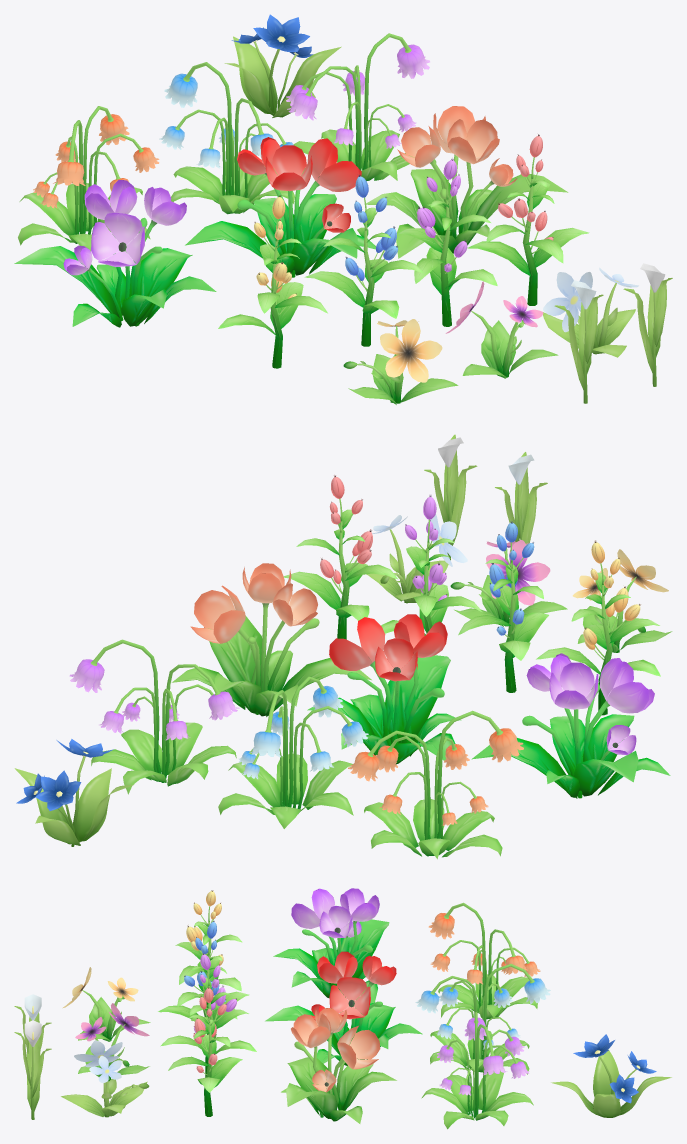
The model's file is flowers_pack_4.glb.
The picture shows the model from 3 angles, top to bottom: view 1: azimuth 30°, elevation 25°; view 2: azimuth 150°, elevation 25°; view 3: azimuth 270°, elevation 25°; orthographic projection. The views are drawn at different scales.
Parts seen in each view (by area): view 1: Cylinder.012, Cylinder.011, Cylinder.010, Cylinder.013, Cylinder.015, Cylinder.014, Cylinder.009, Circle.009, Circle.002, Circle.001, Cylinder.008, Circle.003 (+4 smaller); view 2: Cylinder.012, Cylinder.010, Cylinder.011, Cylinder.014, Cylinder.015, Cylinder.013, Cylinder.009, Circle.009, Circle.002, Circle.003, Circle.001, Cylinder.007 (+4 smaller); view 3: Cylinder.010, Cylinder.012, Cylinder.011, Cylinder.015, Cylinder.014, Cylinder.013, Cylinder.009, Cylinder.002, Circle.009, Circle.001, Circle.003, Circle.002 (+4 smaller).
Boxes of the visible parts, <box> form: Cylinder.012: <box>14,180,216,327</box>; Cylinder.011: <box>185,137,375,277</box>; Cylinder.010: <box>364,106,568,258</box>; Cylinder.013: <box>159,62,294,214</box>; Cylinder.015: <box>286,33,436,180</box>; Cylinder.014: <box>18,106,159,251</box>; Cylinder.009: <box>224,14,341,117</box>; Circle.009: <box>467,134,589,305</box>; Circle.002: <box>304,175,423,346</box>; Circle.001: <box>397,158,497,326</box>; Cylinder.008: <box>343,319,458,404</box>; Circle.003: <box>218,195,327,368</box>; Cylinder.012: <box>471,653,670,798</box>; Cylinder.010: <box>171,563,371,716</box>; Cylinder.011: <box>307,614,461,764</box>; Cylinder.014: <box>348,710,523,859</box>; Cylinder.015: <box>69,639,239,794</box>; Cylinder.013: <box>218,676,368,828</box>; Cylinder.009: <box>14,739,134,846</box>; Circle.009: <box>283,475,397,639</box>; Circle.002: <box>458,521,548,692</box>; Circle.003: <box>536,540,660,715</box>; Circle.001: <box>381,495,482,635</box>; Cylinder.007: <box>450,540,567,626</box>; Cylinder.010: <box>281,1008,396,1123</box>; Cylinder.012: <box>273,888,389,1003</box>; Cylinder.011: <box>265,951,422,1065</box>; Cylinder.015: <box>421,1012,533,1129</box>; Cylinder.014: <box>428,902,540,1019</box>; Cylinder.013: <box>415,964,550,1074</box>; Cylinder.009: <box>551,1034,671,1117</box>; Cylinder.002: <box>61,1040,149,1117</box>; Circle.009: <box>168,987,242,1116</box>; Circle.001: <box>160,953,256,1077</box>; Circle.003: <box>175,890,242,1007</box>; Circle.002: <box>158,921,249,1034</box>.
Bounding box in the file's own units: 4.79 × 1.64 × 7.21.
Materials: 16 (16 with a texture image).
